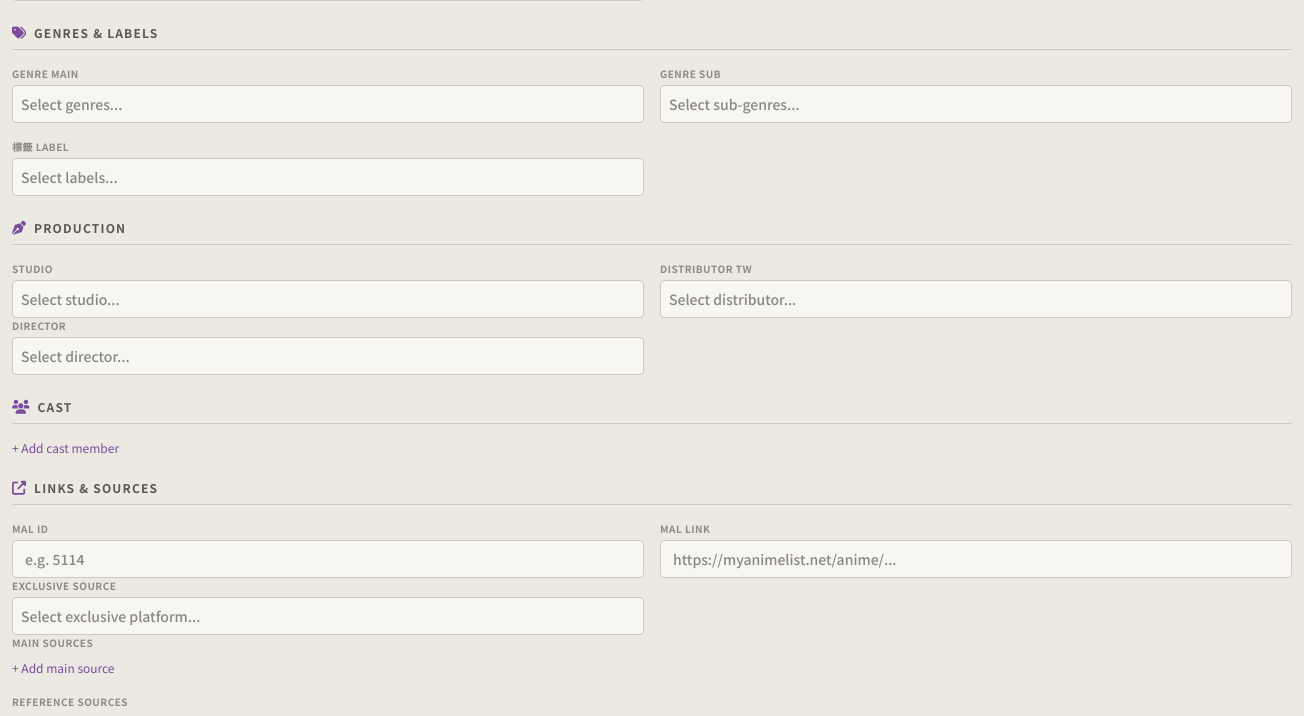
it: Anime movie form › modify offers anime-movie directors, not anime ones
(page scrolled)
Click the dropdown with placeholder "Select director...": (328, 356) x1=21 y1=344 x2=635 y2=368
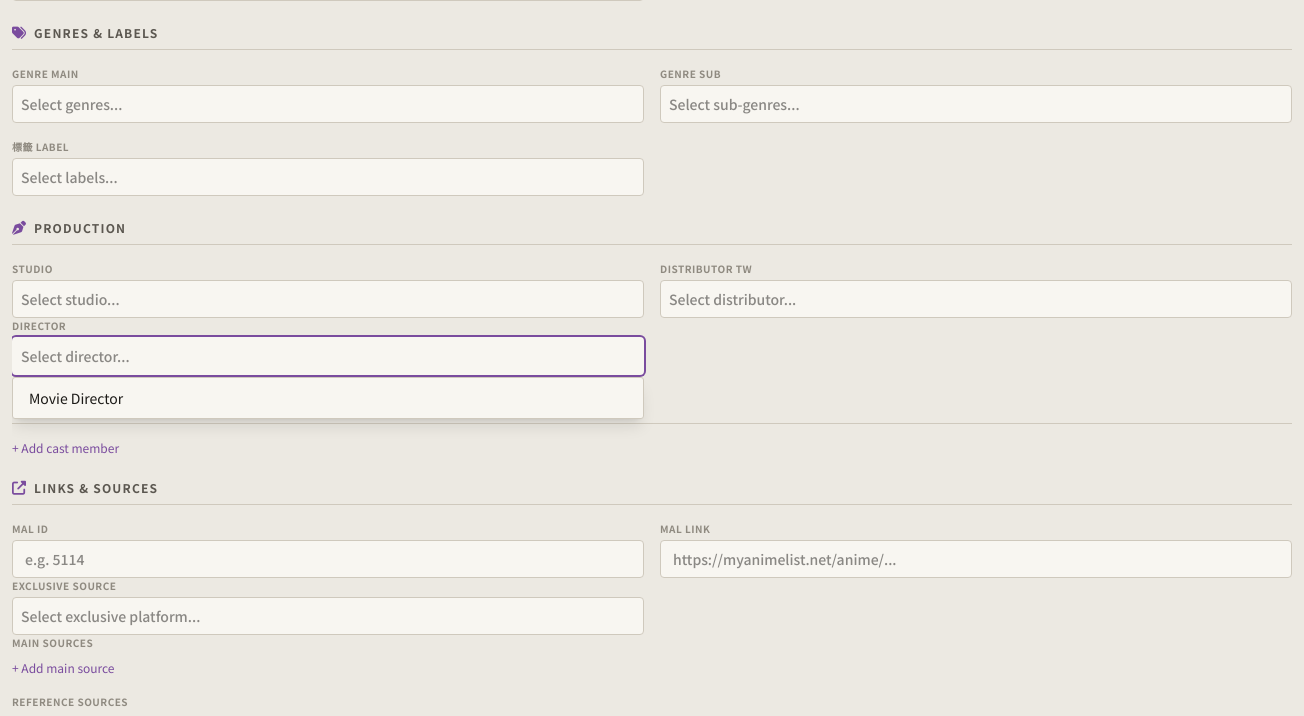
Check: the option "Movie Director" is shown, box x1=29 y1=388 x2=123 y2=408
